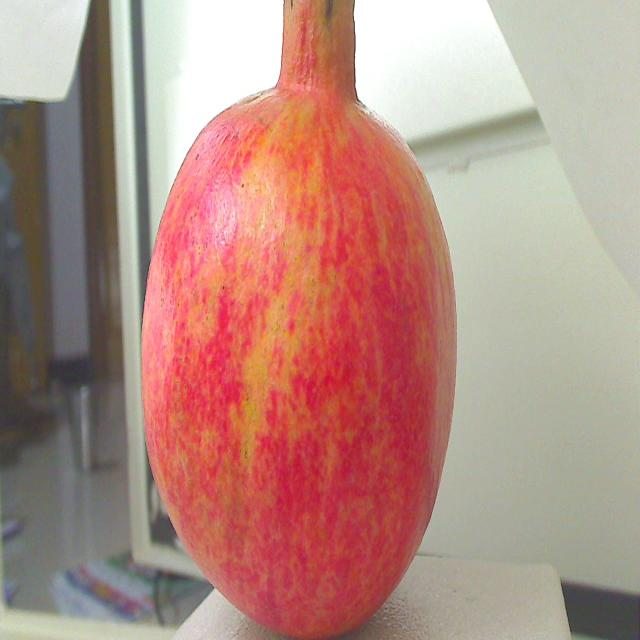pomegranate: (132, 0, 462, 640)
